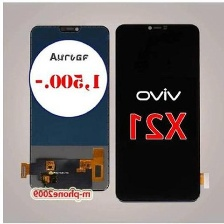phone: (112, 19, 202, 206), (27, 21, 111, 195)
